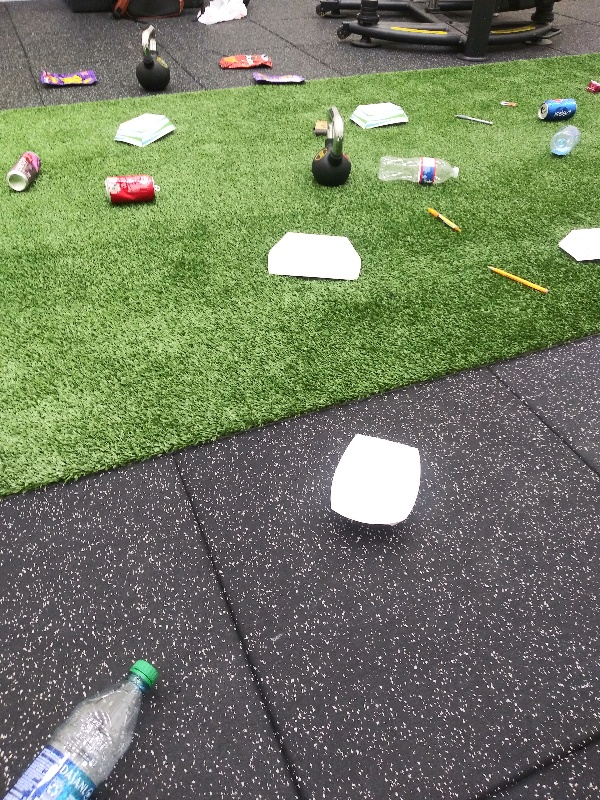bag: (37, 62, 105, 92), (210, 46, 275, 72), (247, 69, 307, 88)
bottle: (4, 649, 168, 800), (372, 153, 467, 190), (544, 124, 583, 160)
can: (97, 173, 164, 204), (5, 146, 43, 192), (534, 93, 579, 126)
plate: (326, 428, 434, 527), (262, 230, 364, 286), (108, 110, 177, 147), (347, 99, 412, 134), (554, 224, 600, 268)
